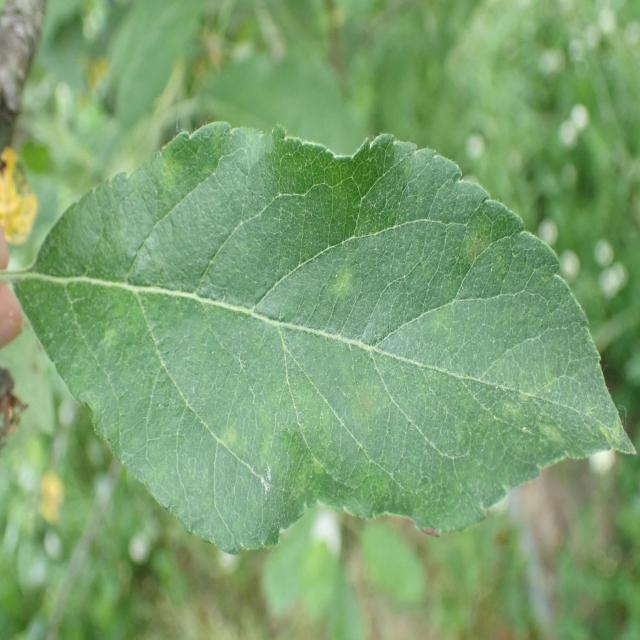scab: (65, 136, 599, 520)
